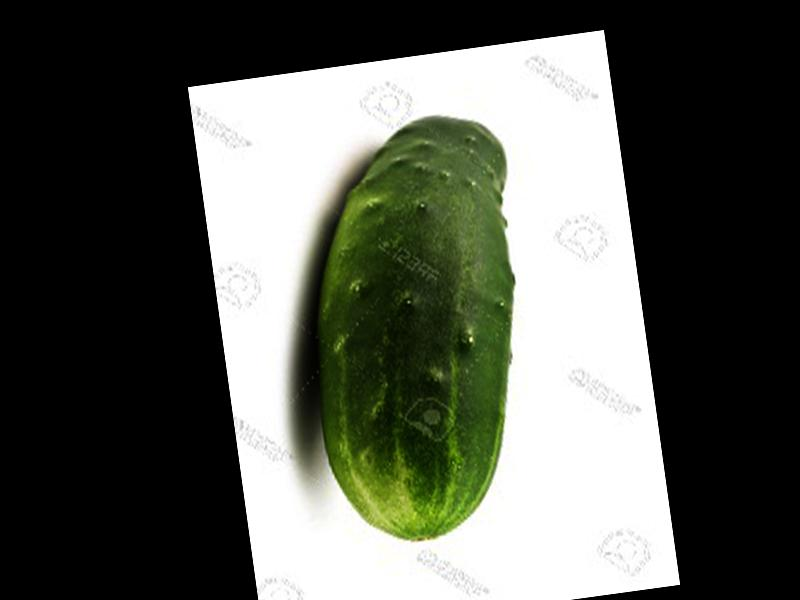Cucumber: (280, 107, 555, 552)
